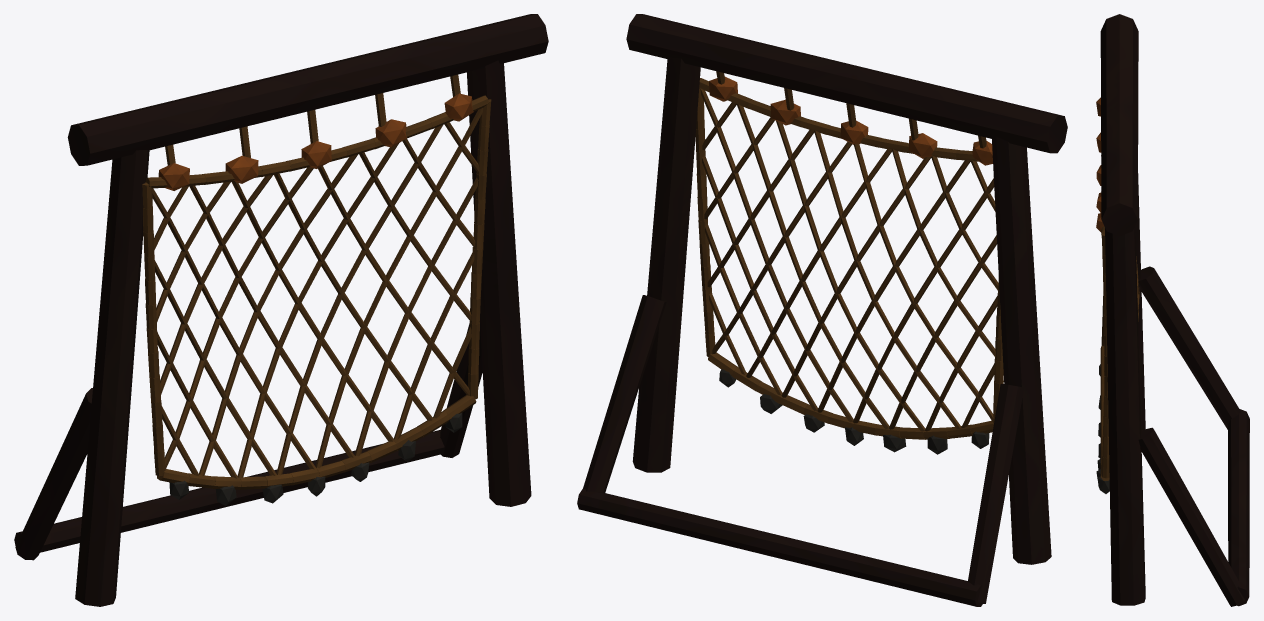
Rendered from fishing_nets.glb.
The picture shows the model from 3 angles, left to right: view 1: azimuth 30°, elevation 25°; view 2: azimuth 150°, elevation 25°; view 3: azimuth 270°, elevation 25°; orthographic projection. The views are drawn at different scales.
Parts seen in each view (by area): view 1: Frame, Netting, OutlineRope, Floats, Sinkers; view 2: Frame, Netting, OutlineRope, Floats, Sinkers; view 3: Frame, OutlineRope, Floats, Sinkers.
Part boxes in pixels (x1,y1,x2,y2): Frame: [14, 14, 548, 606]; Netting: [152, 108, 482, 478]; OutlineRope: [142, 74, 491, 489]; Floats: [158, 93, 473, 190]; Sinkers: [169, 413, 462, 505]; Frame: [577, 14, 1067, 606]; Netting: [700, 88, 998, 431]; OutlineRope: [695, 71, 1003, 439]; Floats: [709, 76, 992, 165]; Sinkers: [719, 369, 989, 454]; Frame: [1100, 14, 1249, 606]; OutlineRope: [1100, 155, 1109, 480]; Floats: [1096, 97, 1104, 232]; Sinkers: [1096, 364, 1109, 493].
Size of the model in its own units: 1.46 by 1.48 by 0.503.
4 materials, 4 textured.
